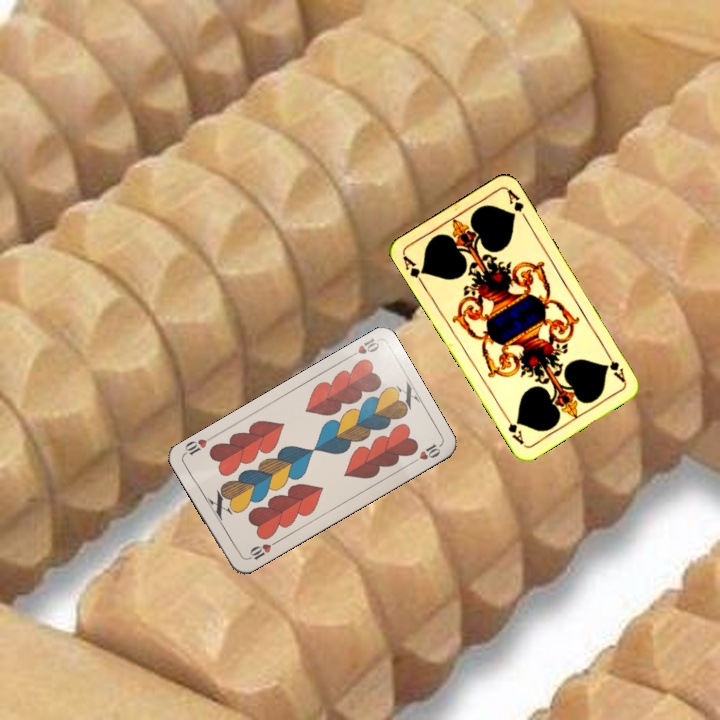GA: (399, 251, 427, 288), (602, 348, 628, 385)
H10: (343, 334, 382, 361), (242, 537, 280, 563)
